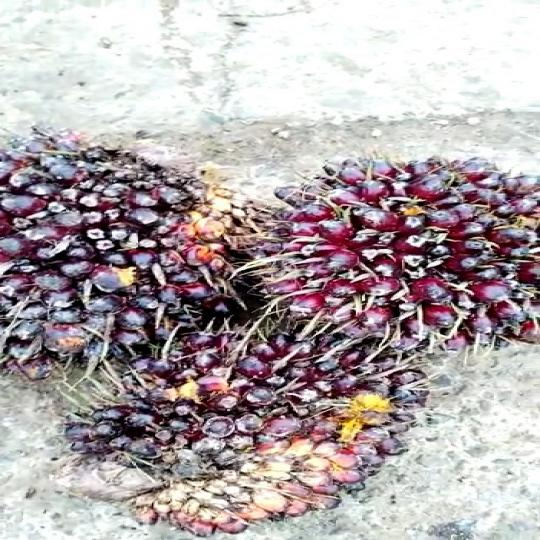kurang masak: (0, 127, 291, 422), (53, 314, 431, 540), (227, 152, 528, 363)
